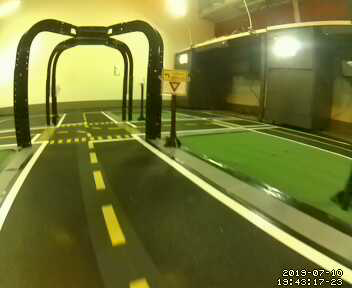Turn Yield: (160, 70, 190, 96)
